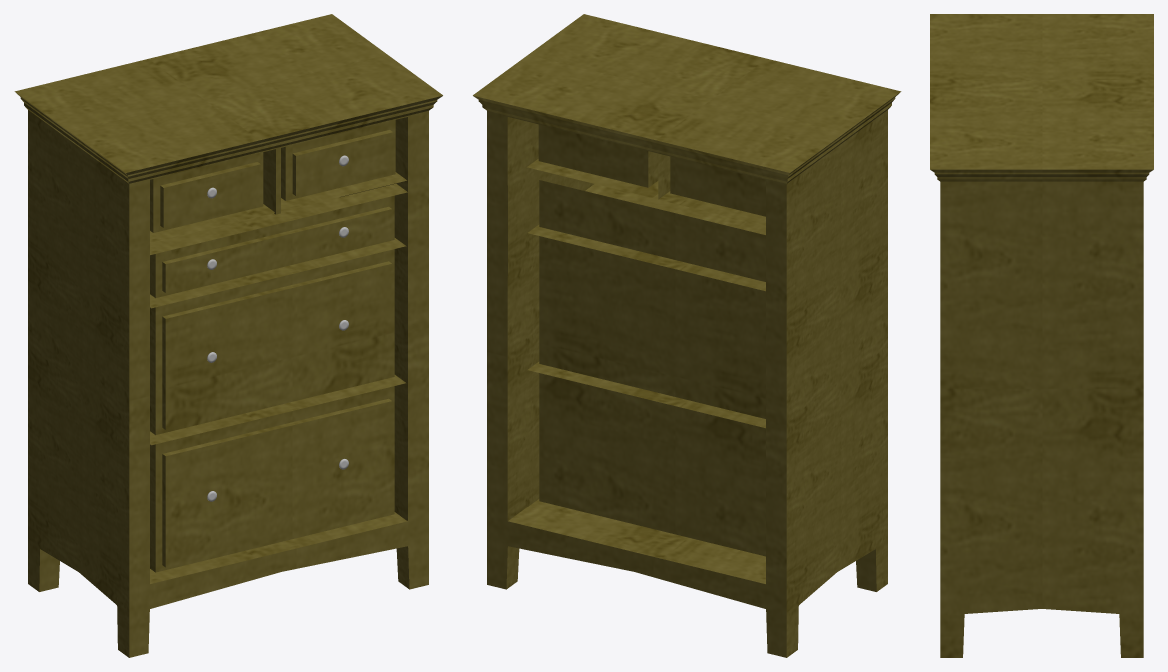
Rendered from largebox.glb.
3 views of the same model, side by side, from view 1: azimuth 30°, elevation 25°; view 2: azimuth 150°, elevation 25°; view 3: azimuth 270°, elevation 25° (orthographic).
Parts seen in each view (by area): view 1: wood_obj, handle_obj; view 2: wood_obj; view 3: wood_obj.
Boxes of the visible parts, x1,y1,x2,y2 form: wood_obj: (14,14,442,657); handle_obj: (207,155,348,501); wood_obj: (473,14,901,657); wood_obj: (930,14,1153,657).
Size of the model in its own units: 0.000826 by 0.00122 by 0.000502.
2 materials, 1 textured.
